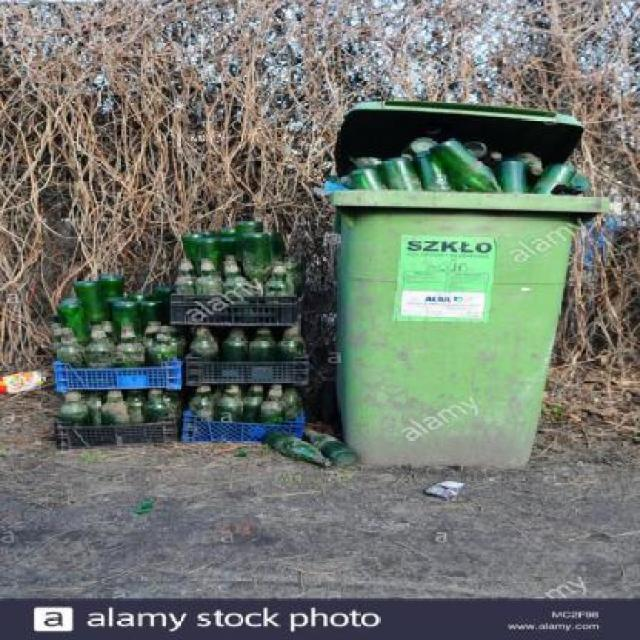garbage: (337, 134, 583, 210)
